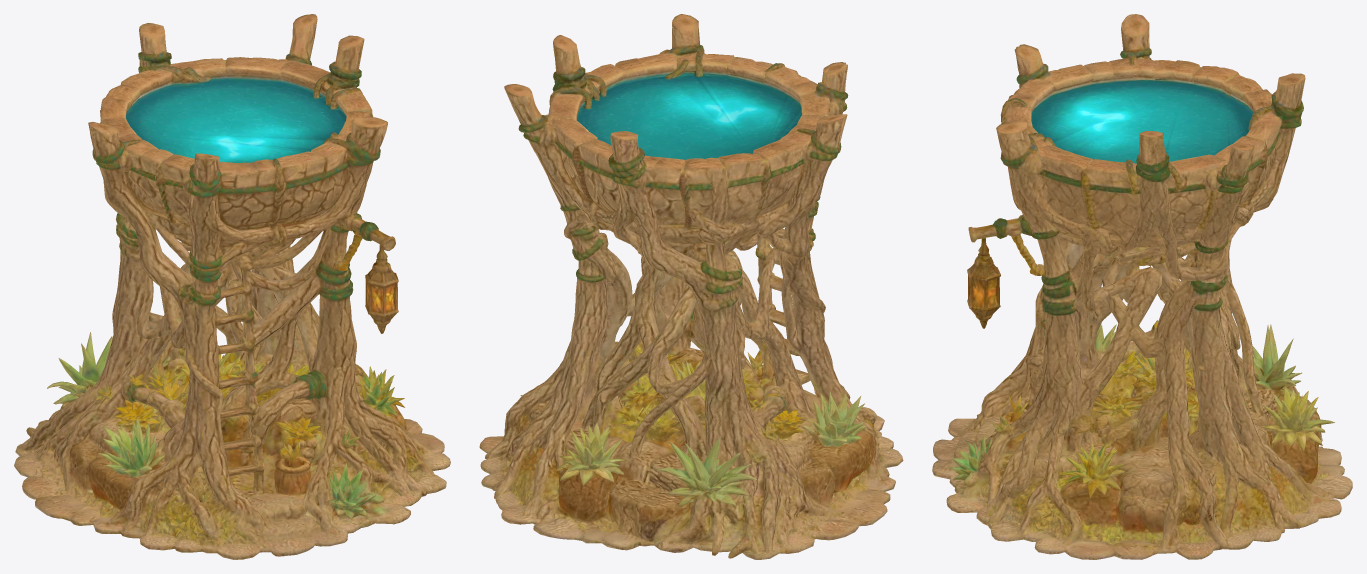
Rendered from water-collector-tower.glb.
3 renders of one model, left to right at view 1: azimuth 30°, elevation 25°; view 2: azimuth 150°, elevation 25°; view 3: azimuth 270°, elevation 25°, orthographic.
Size of the model in its own units: 1.85 by 1.9 by 1.81.
Materials: 1 (1 with a texture image).
